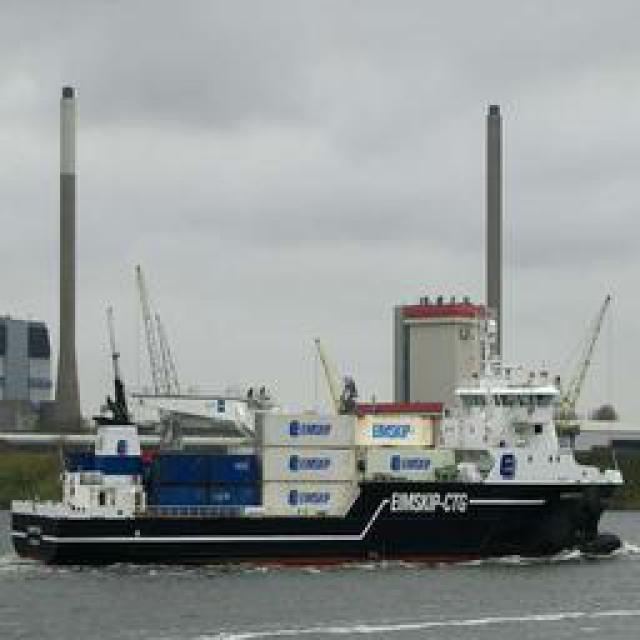Ship: (5, 346, 640, 571)
